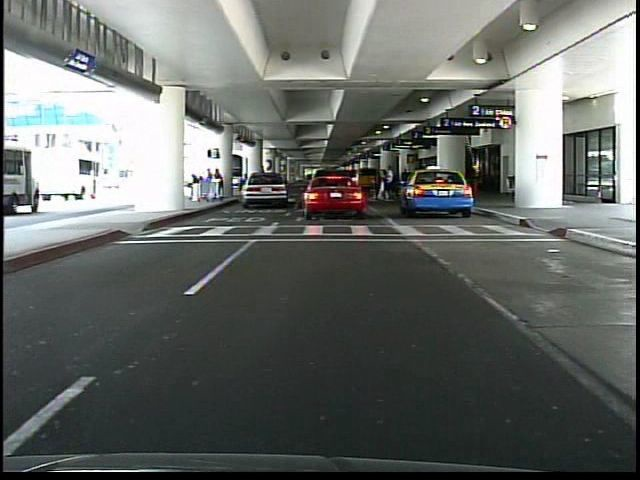person: (257, 165, 271, 205), (387, 166, 399, 201), (400, 165, 411, 203), (366, 173, 378, 203)
